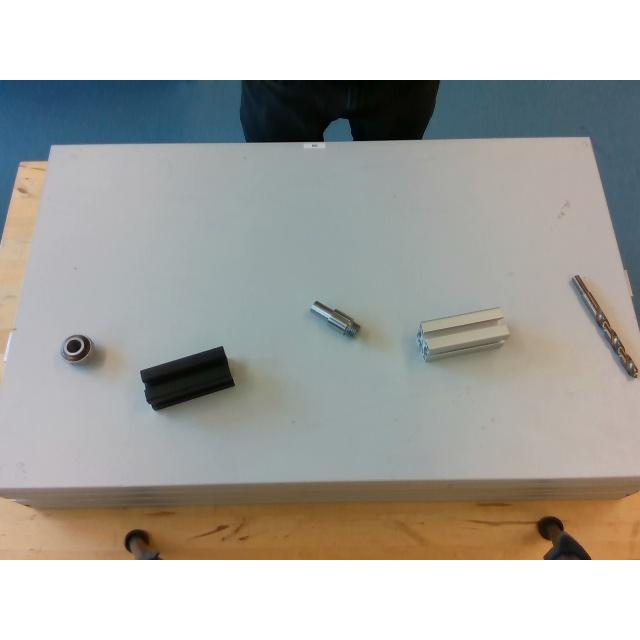Axis2: (308, 300, 359, 336)
Bearing2: (60, 334, 90, 362)
Drill: (570, 276, 638, 376)
S40_40_B: (140, 346, 234, 409)
S40_40_G: (418, 308, 508, 360)
